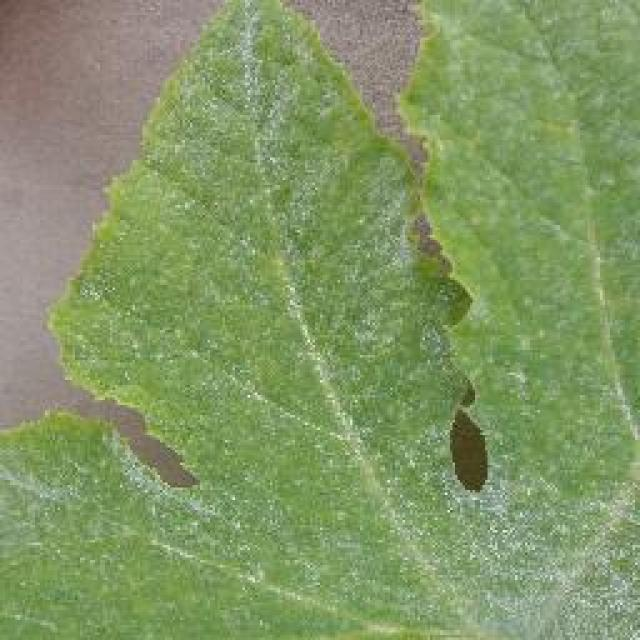Squ_Powdery_mildew: (147, 116, 582, 603)
